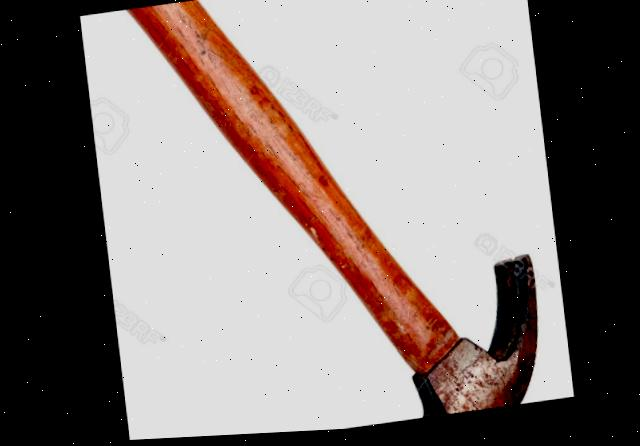hammer: (78, 0, 552, 443)
